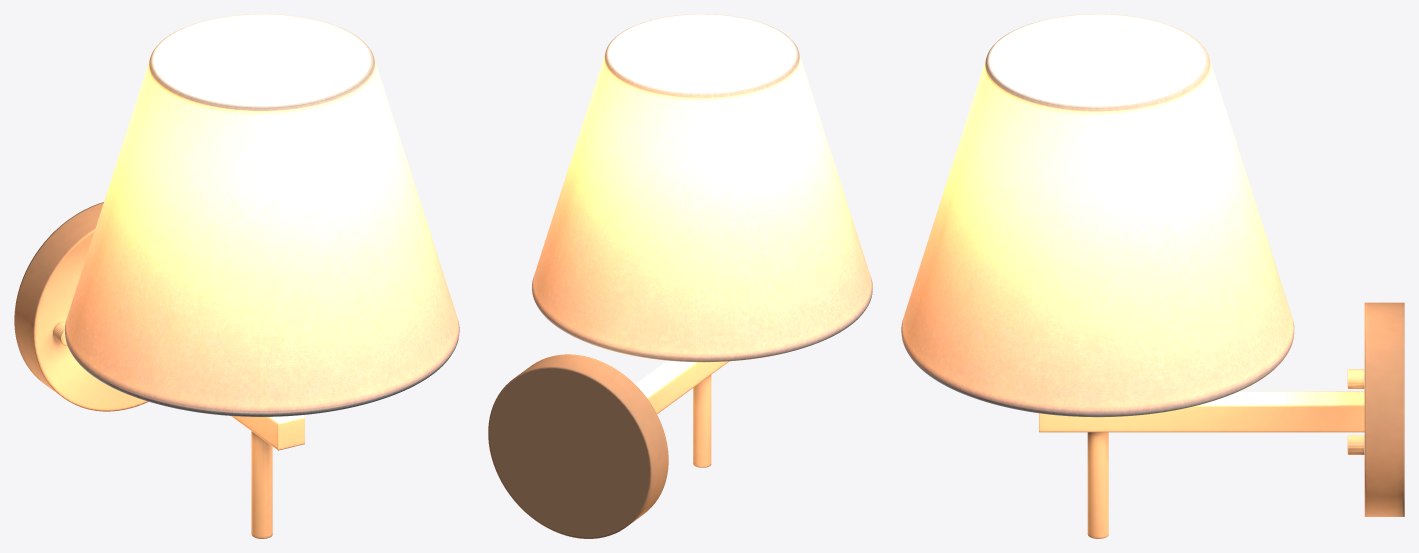
The model's file is lamp55995.glb.
3 views of the same model, side by side, from view 1: azimuth 30°, elevation 25°; view 2: azimuth 150°, elevation 25°; view 3: azimuth 270°, elevation 25° (orthographic). The views are drawn at different scales.
Visible parts, largest first — view 1: lamp55995; view 2: lamp55995; view 3: lamp55995.
Part boxes in pixels (x1,y1,x2,y2): lamp55995: (14, 14, 459, 538); lamp55995: (488, 14, 872, 538); lamp55995: (901, 14, 1404, 538).
Size of the model in its own units: 0.2 by 0.265 by 0.255.
Materials: 2 (2 with a texture image).
